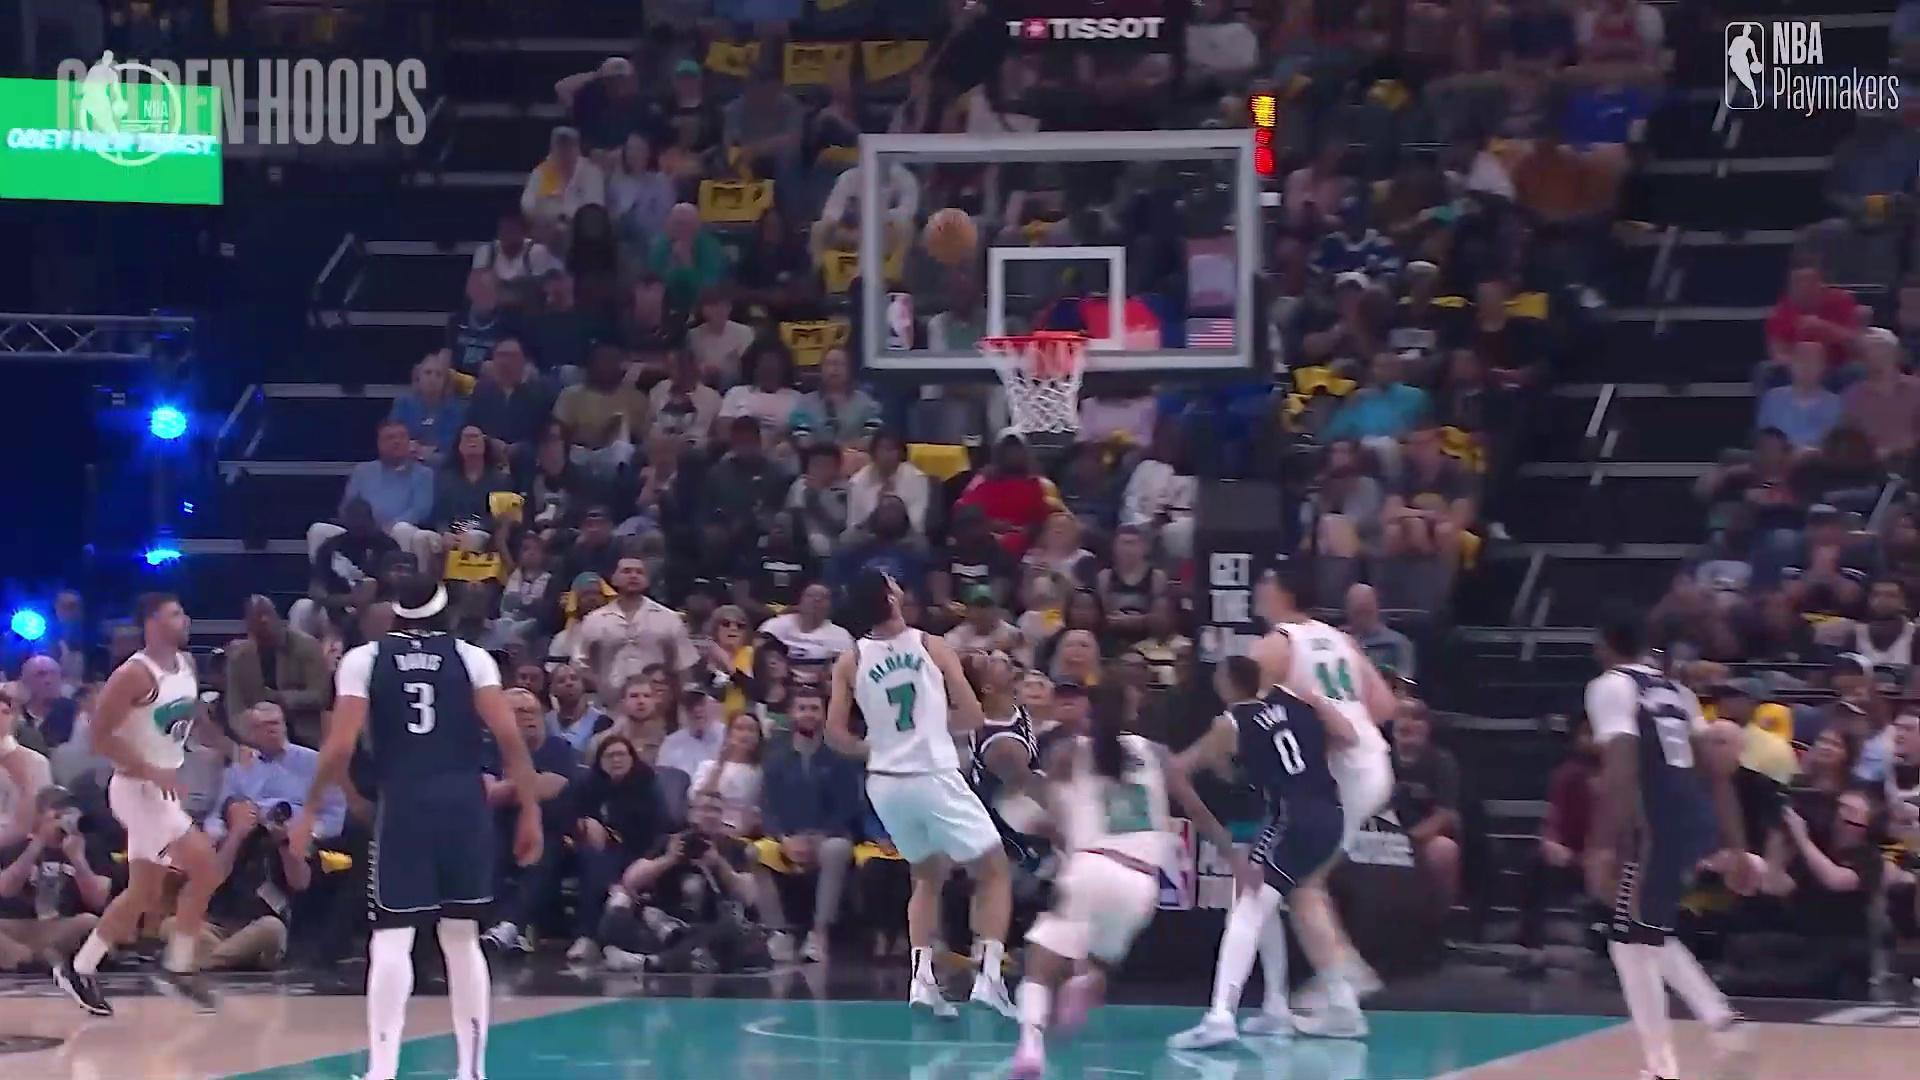ball: (920, 208, 981, 270)
hoop: (984, 324, 1088, 436)
